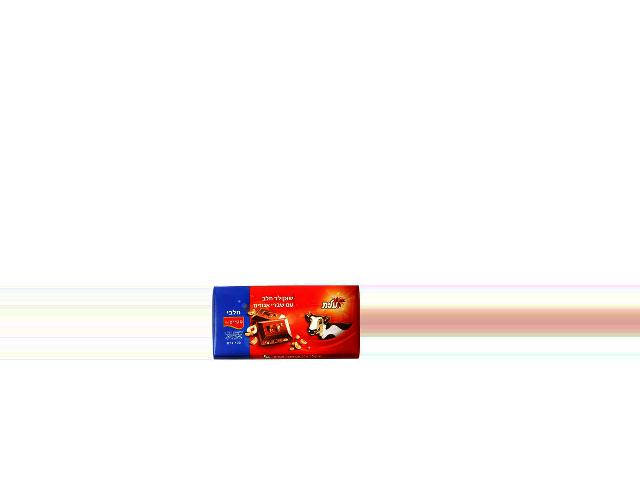chocolate: (214, 286, 359, 365)
